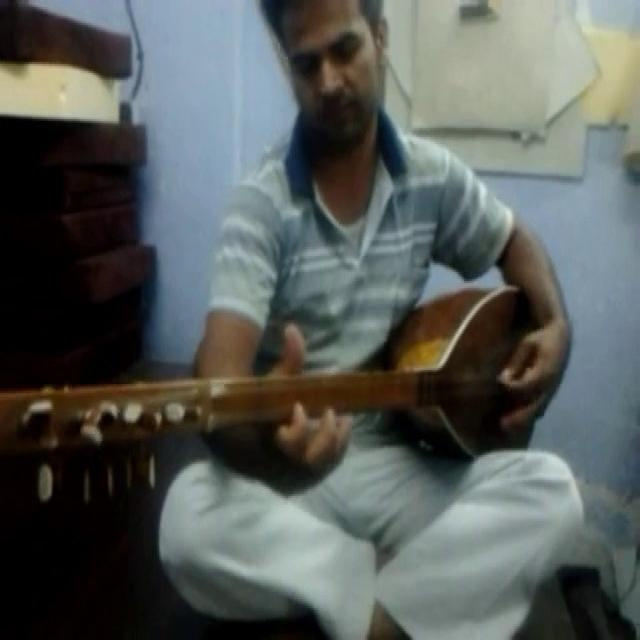Setar: (1, 281, 559, 484)
